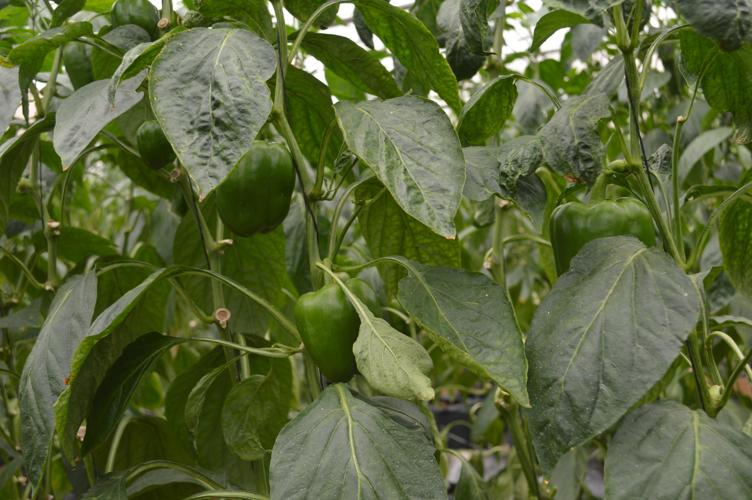BellPepper: (547, 200, 651, 280), (299, 282, 381, 381), (215, 145, 294, 246), (136, 124, 177, 174)
